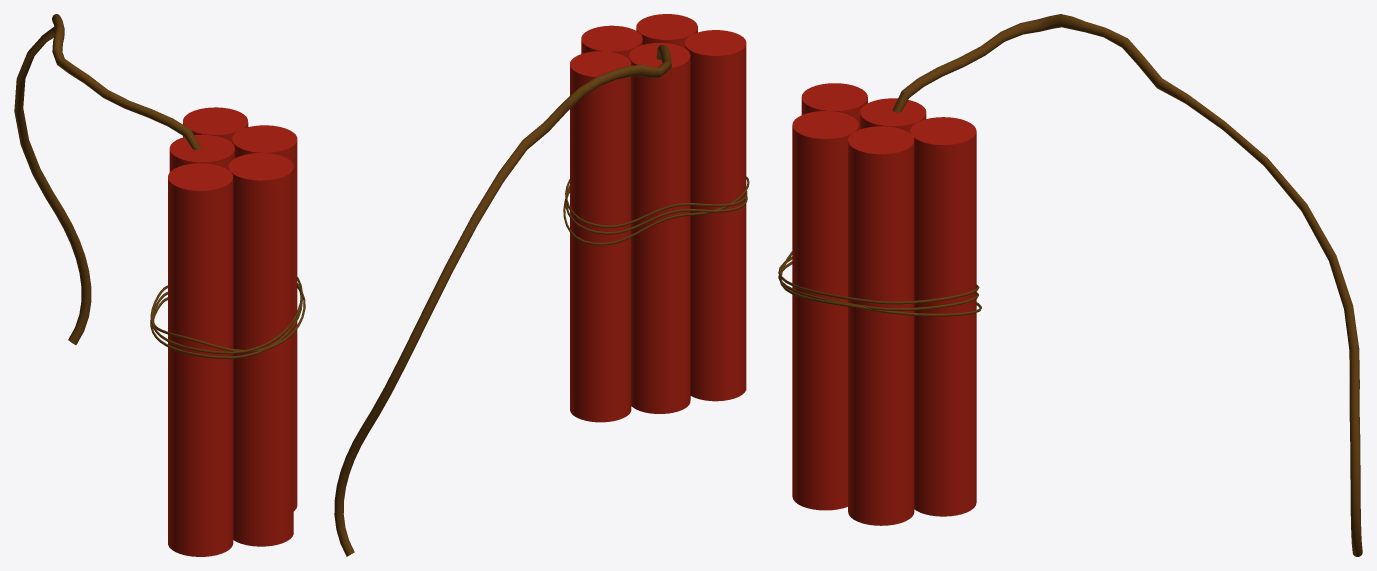
Rendered from Bomb_MassiveExplodeKind.fbx.
3 views of the same model, side by side, from view 1: azimuth 30°, elevation 25°; view 2: azimuth 150°, elevation 25°; view 3: azimuth 270°, elevation 25° (orthographic). The views are drawn at different scales.
Parts seen in each view (by area): view 1: Sphere, BézierCircle, BézierCircle.001, BézierCircle.002; view 2: Sphere, BézierCircle.002, BézierCircle, BézierCircle.001; view 3: Sphere, BézierCircle.002, BézierCircle.
Boxes of the visible parts, left/top/right/bottom form: Sphere: left=14, top=14, right=297, bottom=556; BézierCircle: left=150, top=277, right=302, bottom=354; BézierCircle.001: left=150, top=283, right=302, bottom=359; BézierCircle.002: left=153, top=287, right=305, bottom=352; Sphere: left=334, top=14, right=746, bottom=556; BézierCircle.002: left=563, top=176, right=749, bottom=245; BézierCircle: left=565, top=179, right=747, bottom=227; BézierCircle.001: left=565, top=185, right=747, bottom=234; Sphere: left=792, top=14, right=1362, bottom=556; BézierCircle.002: left=779, top=251, right=981, bottom=316; BézierCircle: left=778, top=256, right=979, bottom=304.
Size of the model in its own units: 92.81 by 212 by 243.
